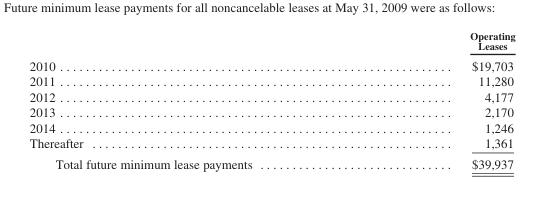table: (28, 29, 514, 170)
table column: (28, 29, 360, 170), (360, 29, 514, 170)
table column header: (28, 29, 514, 54)
table row: (28, 29, 514, 54), (28, 134, 514, 153), (28, 54, 514, 72), (28, 153, 514, 170), (28, 72, 514, 88), (28, 103, 514, 119), (28, 88, 514, 103), (28, 119, 514, 134)
